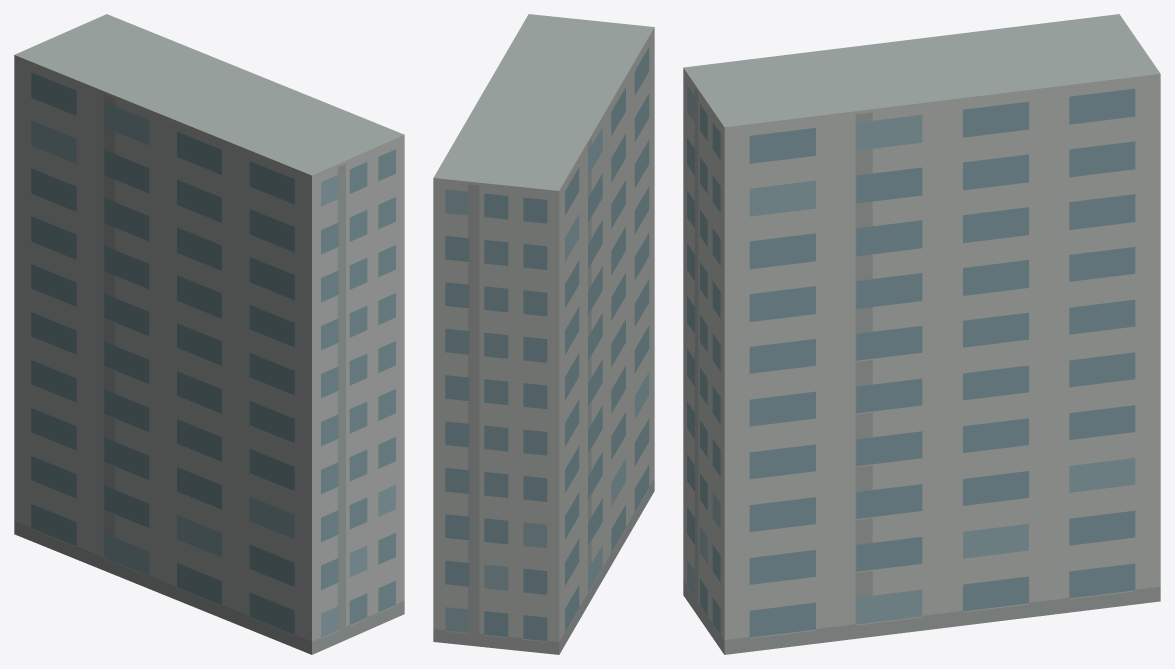
File: residential-822cf296-8278-4c6a-8d76-42192aa13f88.glb
The picture shows the model from 3 angles, left to right: view 1: azimuth 30°, elevation 25°; view 2: azimuth 150°, elevation 25°; view 3: azimuth 270°, elevation 25°; orthographic projection. The views are drawn at different scales.
Visible parts, largest first — view 1: residential-822cf296-8278-4c6a-8d76-42192aa13f88.tmp; view 2: residential-822cf296-8278-4c6a-8d76-42192aa13f88.tmp; view 3: residential-822cf296-8278-4c6a-8d76-42192aa13f88.tmp.
Part boxes in pixels (box(x1,y1,x2,y2)): residential-822cf296-8278-4c6a-8d76-42192aa13f88.tmp: box(14, 14, 404, 654); residential-822cf296-8278-4c6a-8d76-42192aa13f88.tmp: box(433, 14, 654, 654); residential-822cf296-8278-4c6a-8d76-42192aa13f88.tmp: box(683, 14, 1160, 654).
Bounding box in the file's own units: 17.98 × 39 × 31.99.
